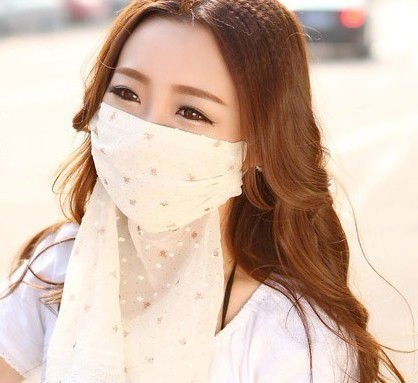face_mask: (88, 20, 244, 222)
